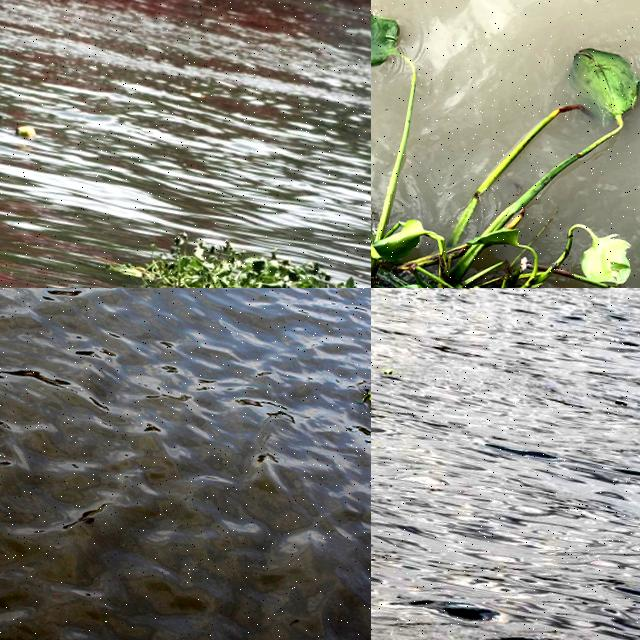water-hyacinth: (372, 1, 640, 289), (118, 216, 372, 289)
